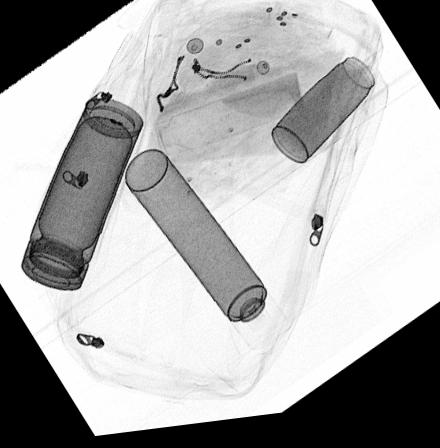Sprayer: (125, 152, 293, 359)
